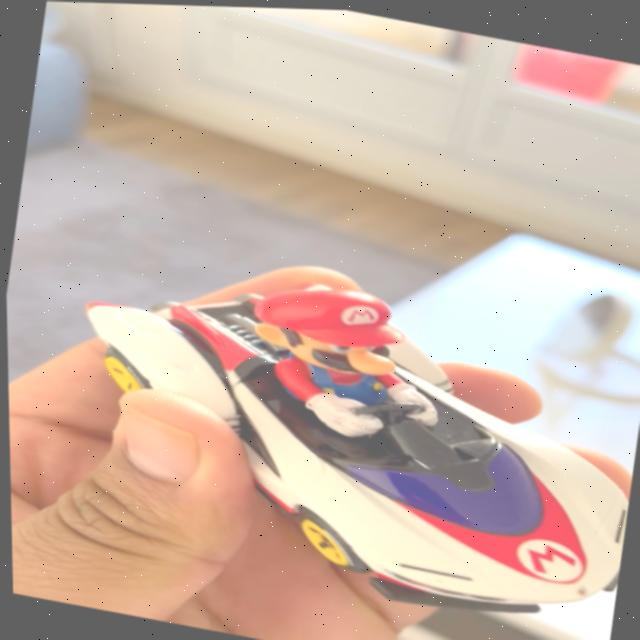mario: (50, 233, 640, 640)
